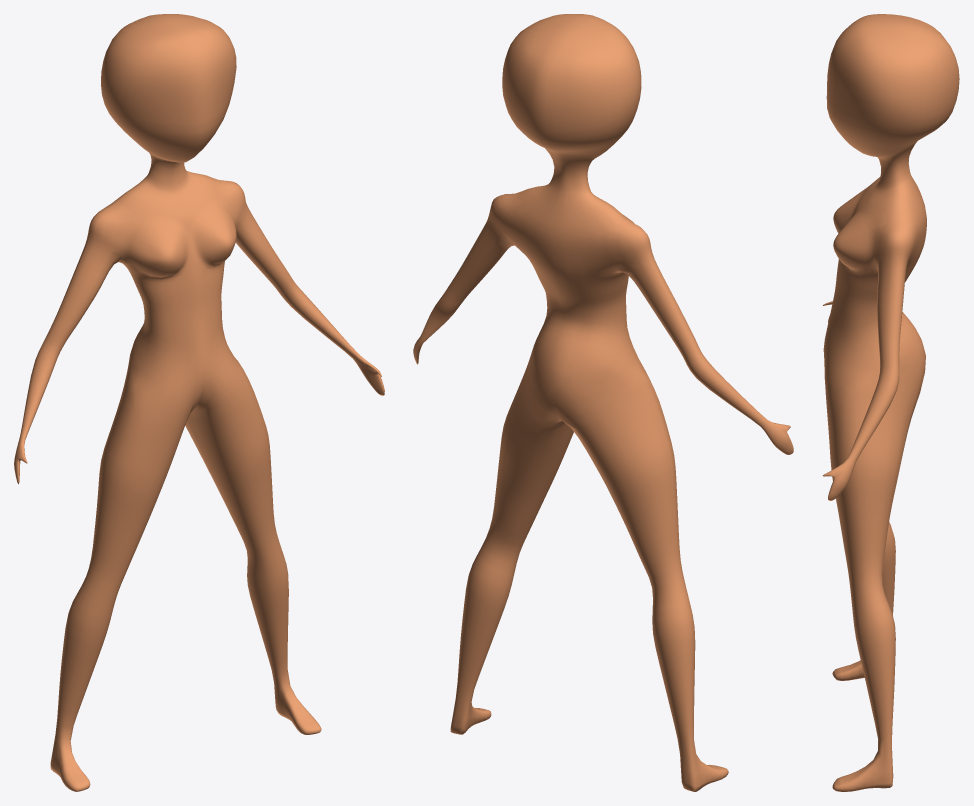
The model's file is LGNBDate.fbx.
3 views of the same model, side by side, from view 1: azimuth 30°, elevation 25°; view 2: azimuth 150°, elevation 25°; view 3: azimuth 270°, elevation 25° (orthographic). The views are drawn at different scales.
Visible parts, largest first — view 1: Cube.002; view 2: Cube.002; view 3: Cube.002.
Part boxes in pixels (<box>): Cube.002: <box>14,14,384,791</box>; Cube.002: <box>413,14,793,791</box>; Cube.002: <box>823,14,959,791</box>.
Bounding box in the file's own units: 81.79 × 154 × 26.88.
